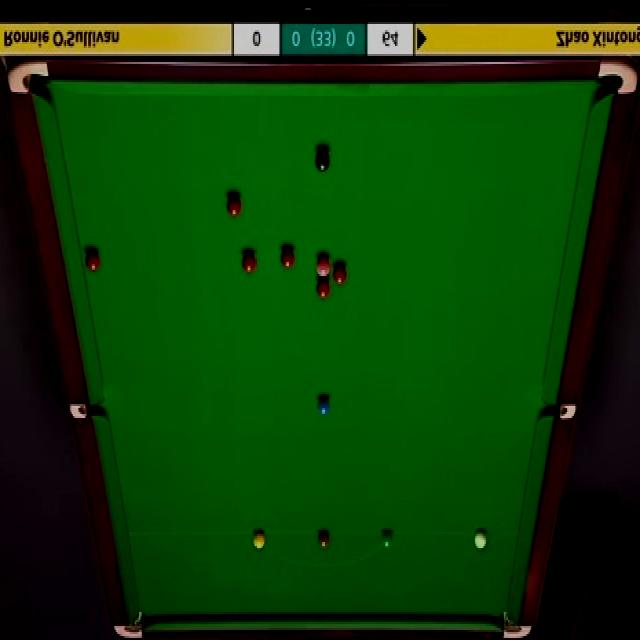black-ball: (262, 98, 278, 114)
blue-ball: (316, 396, 329, 417)
brown-ball: (318, 528, 330, 548)
green-ball: (380, 530, 394, 549)
red-ball: (330, 123, 347, 149), (192, 107, 209, 132), (302, 112, 318, 138), (227, 194, 242, 220), (332, 263, 348, 287), (241, 250, 256, 275), (280, 248, 296, 270), (367, 128, 382, 149), (86, 250, 100, 272), (316, 278, 330, 300)
white-ball: (474, 530, 488, 550)
yellow-ball: (250, 530, 266, 550)
